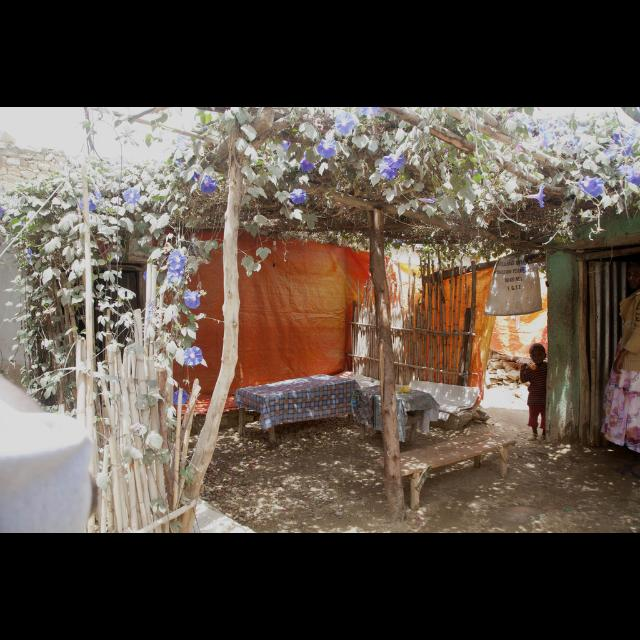Flower: (318, 132, 337, 160), (333, 110, 355, 134), (525, 184, 545, 208), (536, 120, 552, 150), (602, 130, 618, 160), (183, 346, 203, 366), (382, 150, 404, 168), (182, 290, 200, 310), (582, 179, 602, 197), (378, 162, 397, 180), (624, 166, 640, 187), (122, 186, 140, 204), (166, 266, 184, 284), (168, 251, 186, 269), (200, 174, 217, 193), (173, 389, 190, 407), (174, 134, 192, 150), (514, 114, 532, 130), (621, 134, 633, 158), (80, 196, 96, 212), (290, 188, 306, 204), (553, 117, 567, 135), (559, 136, 577, 150), (299, 154, 313, 170), (28, 250, 40, 264), (146, 299, 154, 317), (280, 138, 292, 150), (0, 204, 10, 218), (116, 154, 126, 168), (359, 108, 379, 114), (174, 156, 186, 164), (462, 169, 478, 175), (94, 188, 102, 198), (190, 171, 198, 181), (418, 198, 436, 202), (518, 266, 526, 272), (200, 122, 207, 128), (142, 269, 146, 279), (2, 183, 6, 191), (398, 240, 406, 244), (537, 263, 545, 267)
